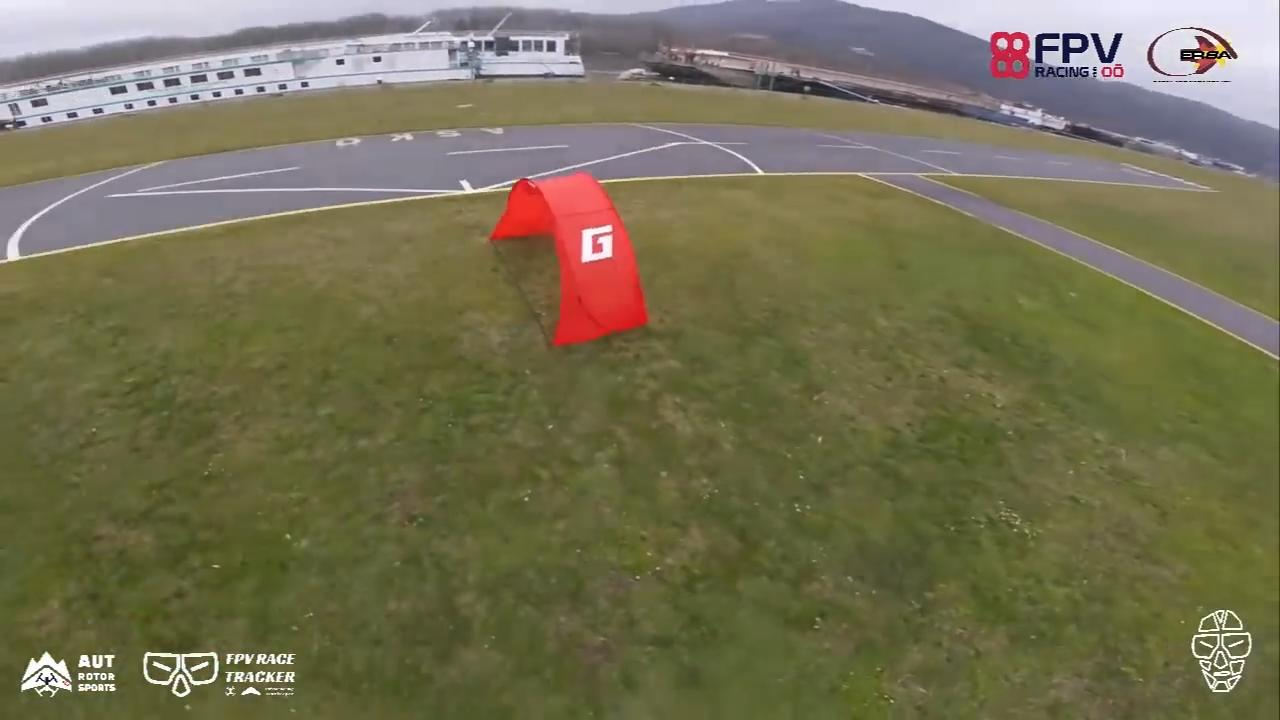gate: (485, 171, 649, 347)
